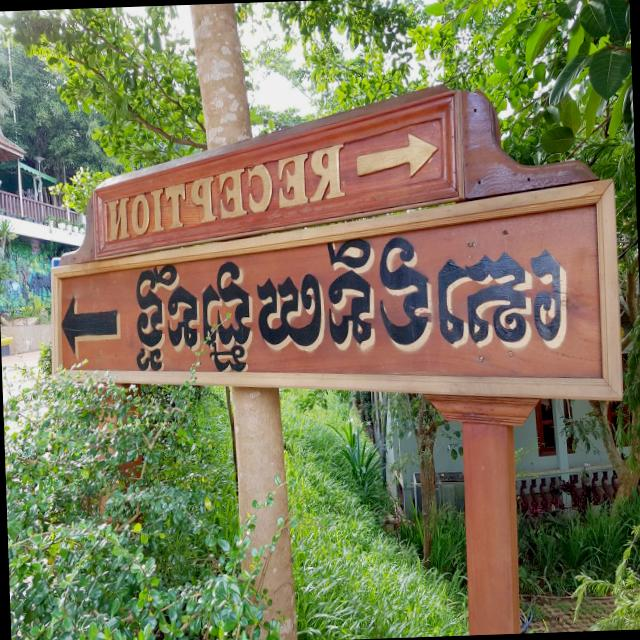Yolov11kh: (119, 229, 573, 386)
